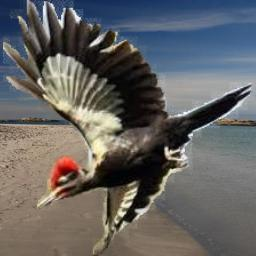Woodpecker: (3, 0, 254, 256)
